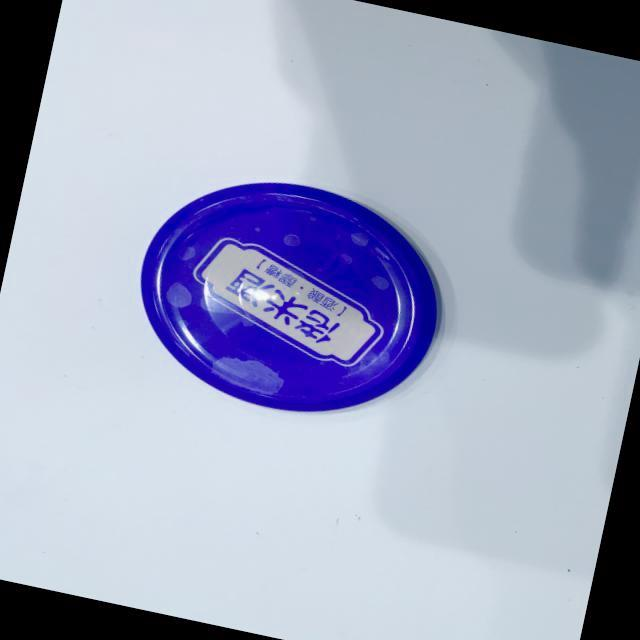metal: (86, 137, 488, 475)
